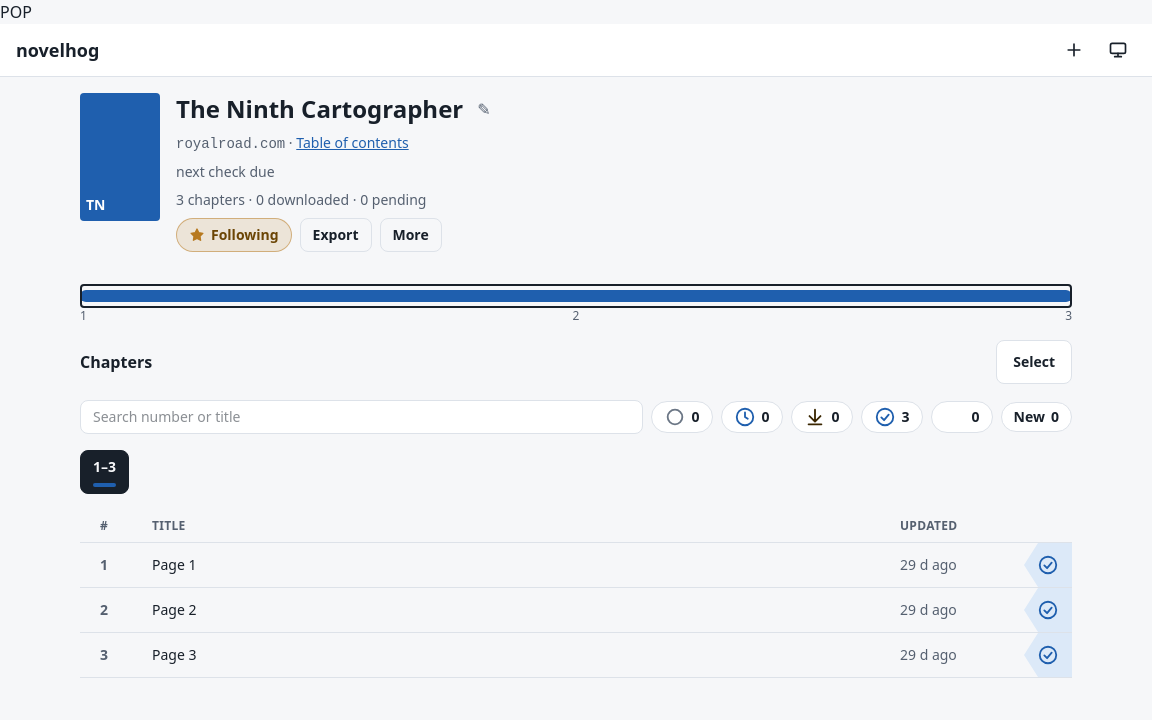
Test: Novel page (rendered through App at /novels/:id) › select mode › Select enters it, announces it and shows the toolbar and action bar
Click the button "Select".
click(1034, 362)  # box x1=996 y1=340 x2=1072 y2=384
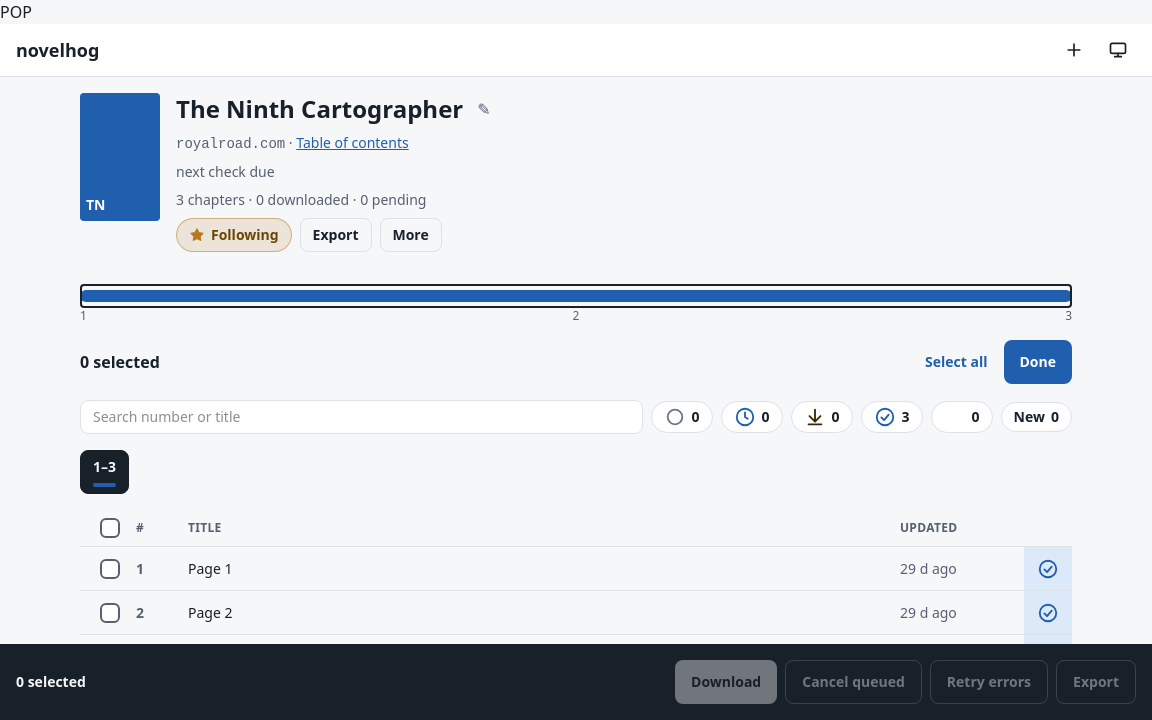
Expected: the 1st text "0 selected" is shown, x1=80 y1=350 x2=160 y2=374
Expected: the element named "Selection actions" is shown, x1=0 y1=644 x2=1151 y2=719
Expected: the list is shown, x1=80 y1=547 x2=1072 y2=679
